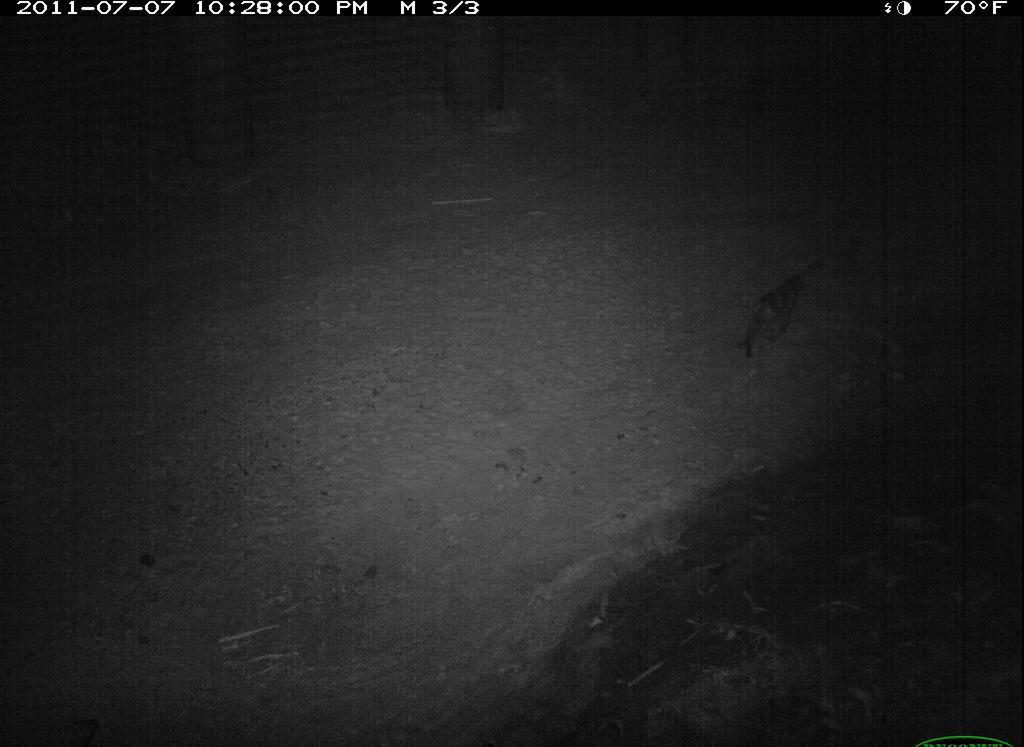cat: (733, 250, 830, 369)
